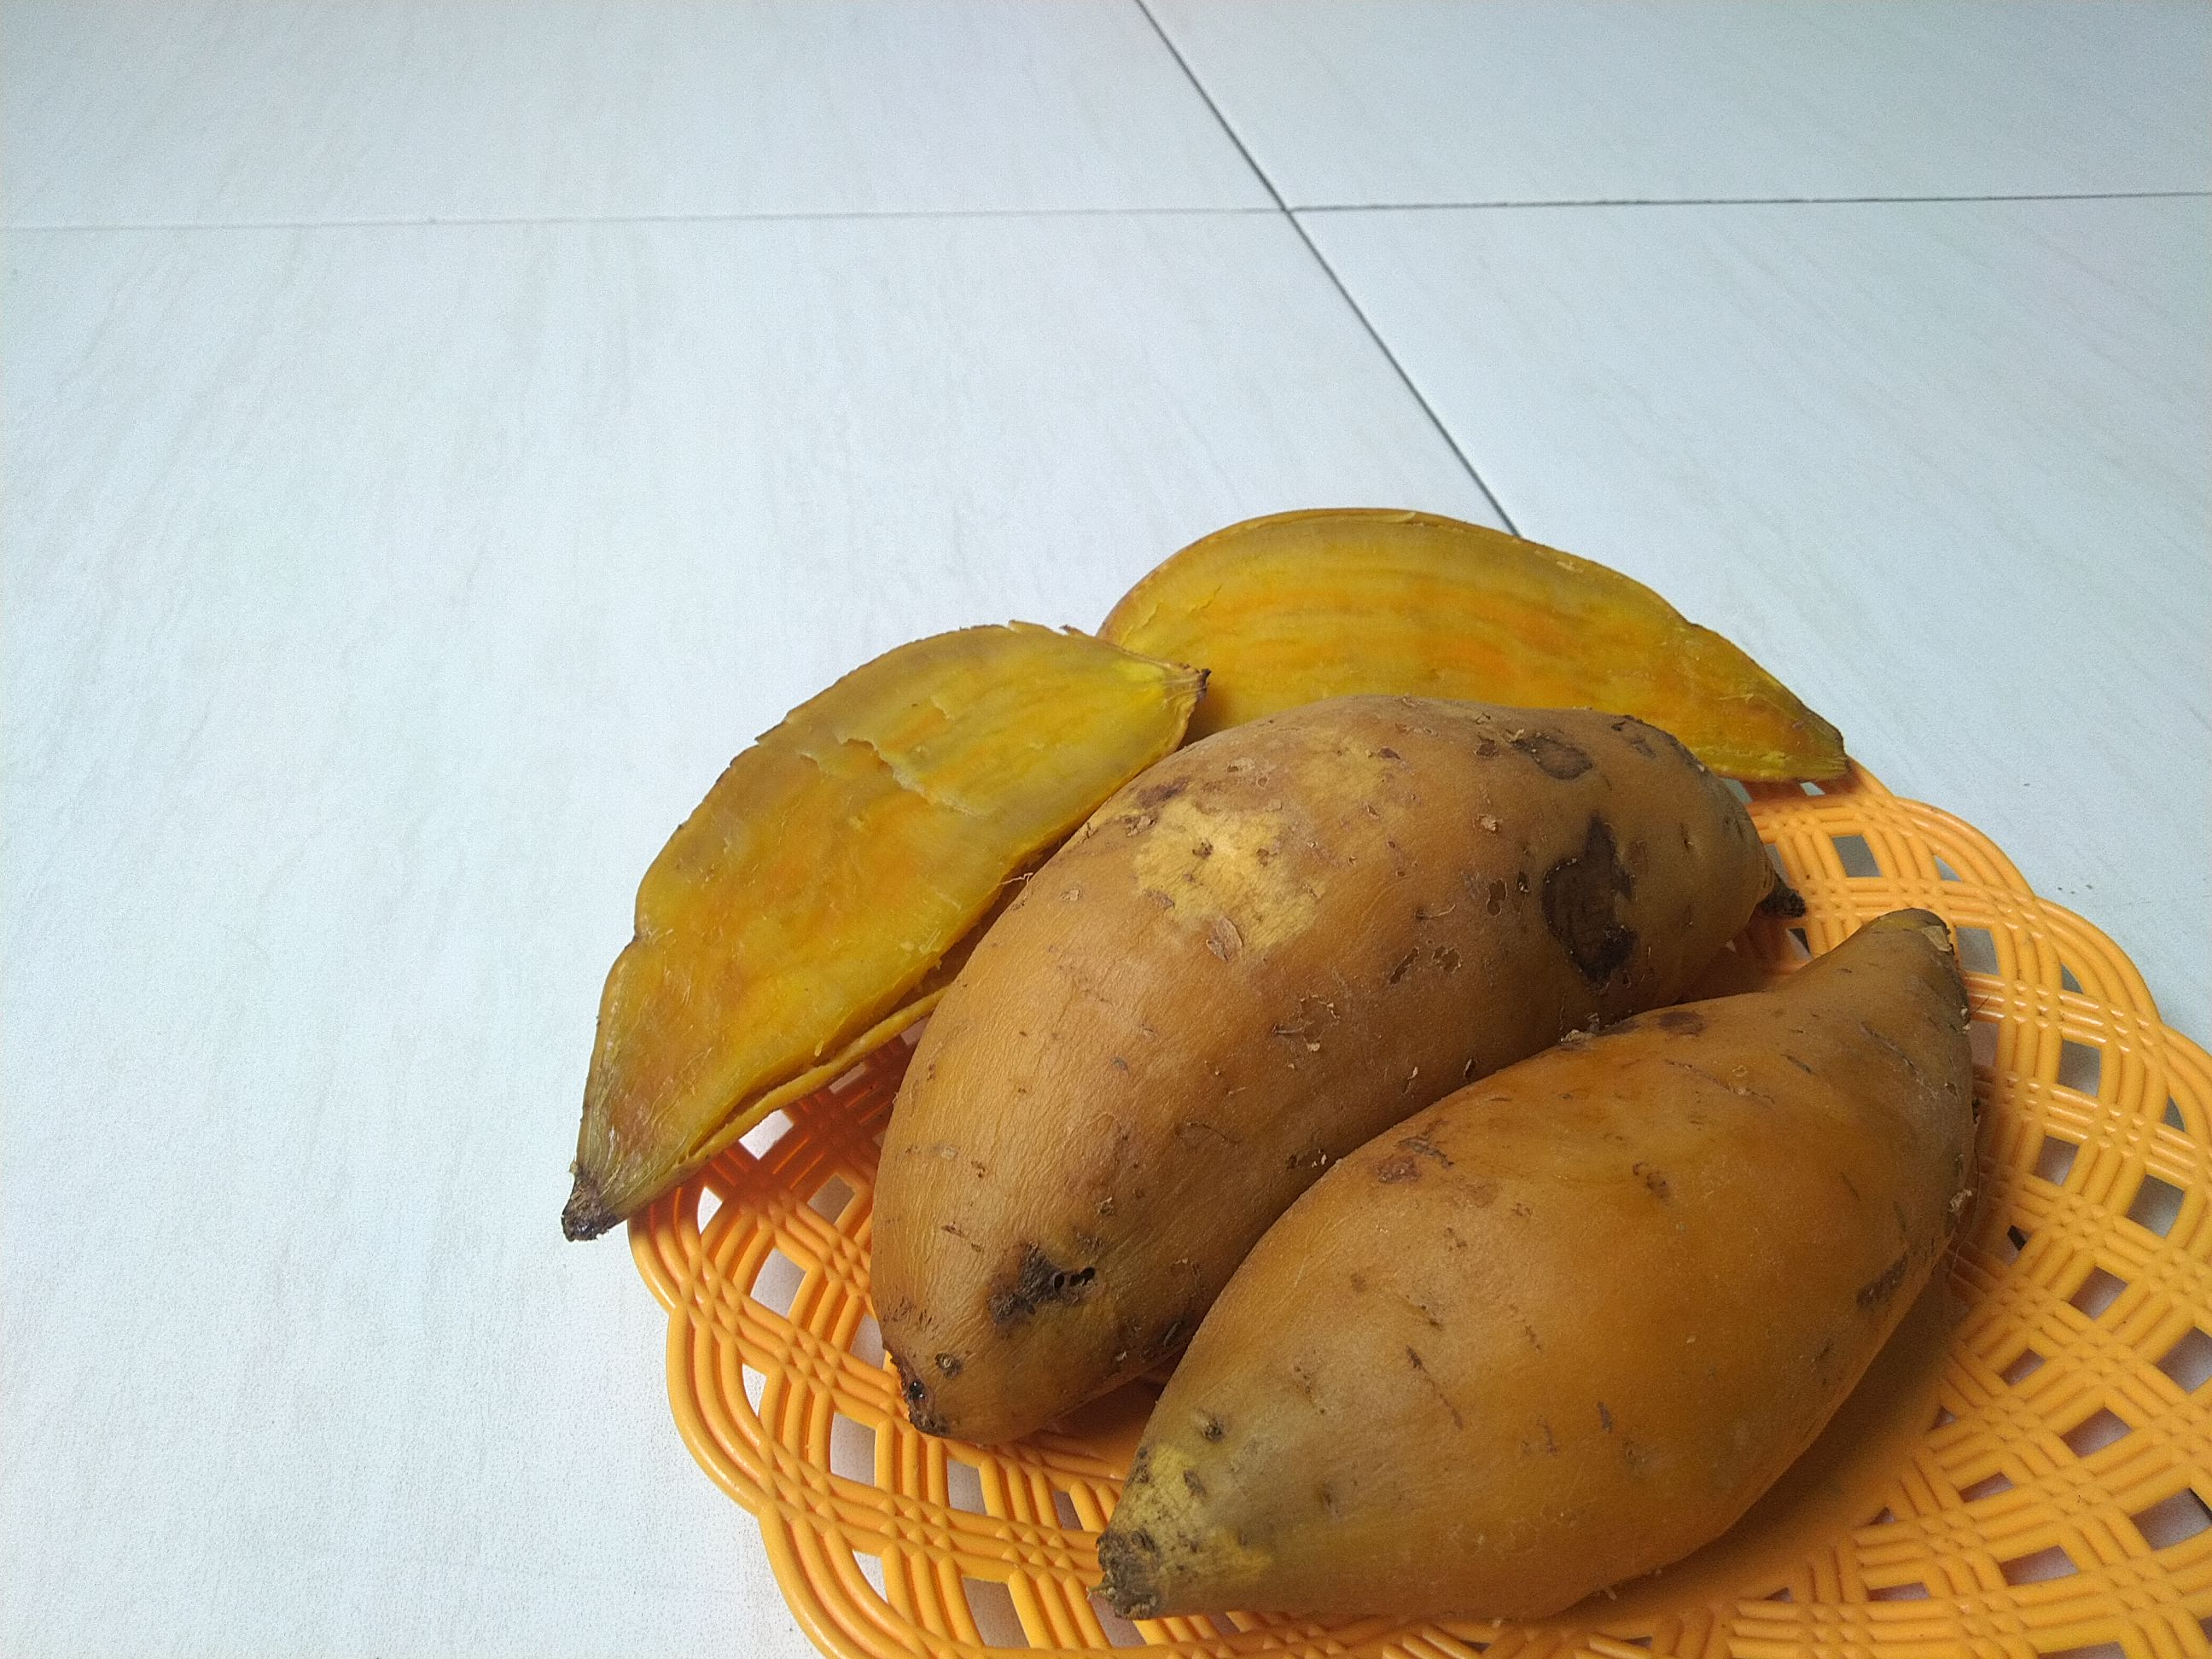ubi cilembu: (850, 683, 1838, 1474), (1087, 901, 2019, 1635), (540, 638, 1219, 1251), (1096, 491, 1876, 788)
